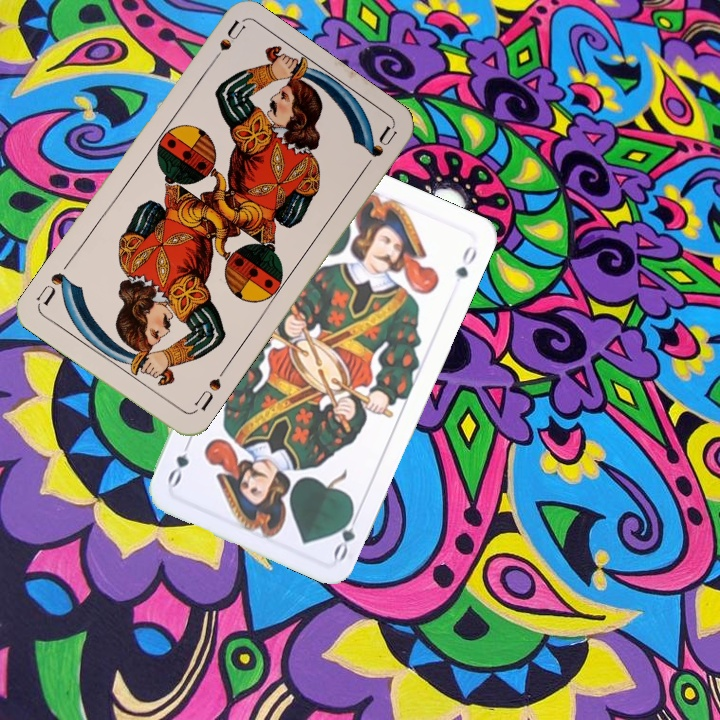GO: (329, 504, 363, 563)
SU: (203, 17, 247, 71), (189, 364, 229, 416)
